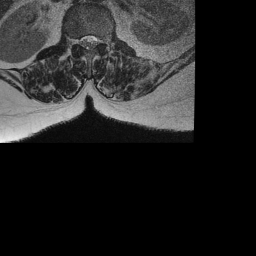CCS_normal: (86, 26, 92, 56)
LFS_normal: (98, 28, 104, 51)
LLS_normal: (92, 28, 99, 53)
RFS_normal: (72, 29, 79, 50)
RLS_normal: (79, 29, 86, 53)
